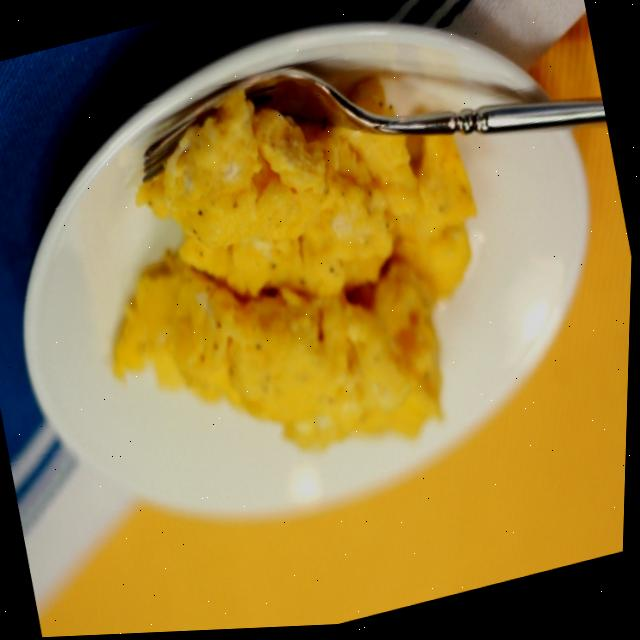鸡蛋料理: (29, 13, 547, 538)
